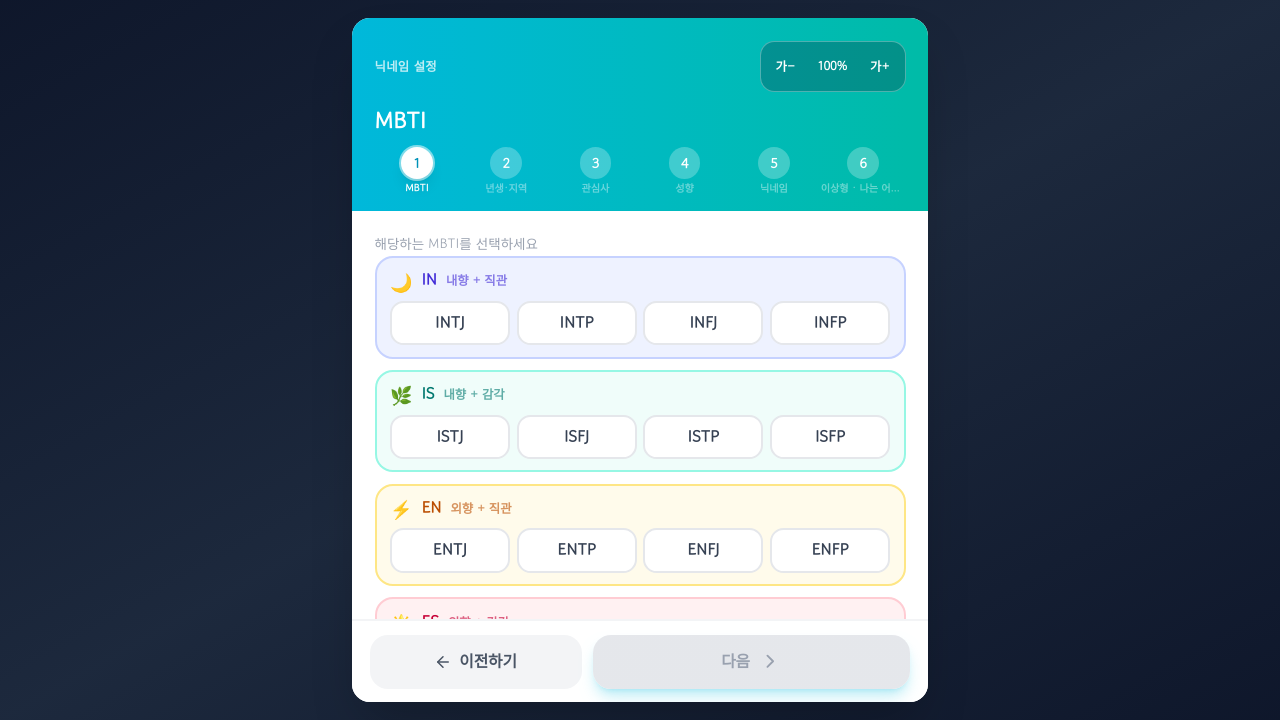
Scenario: NicknameSetupScreen — step 1 back › goes to the previous setup step instead of resetting after step 1
Click the button "INTJ" at (450, 323), box [390,301,510,346]
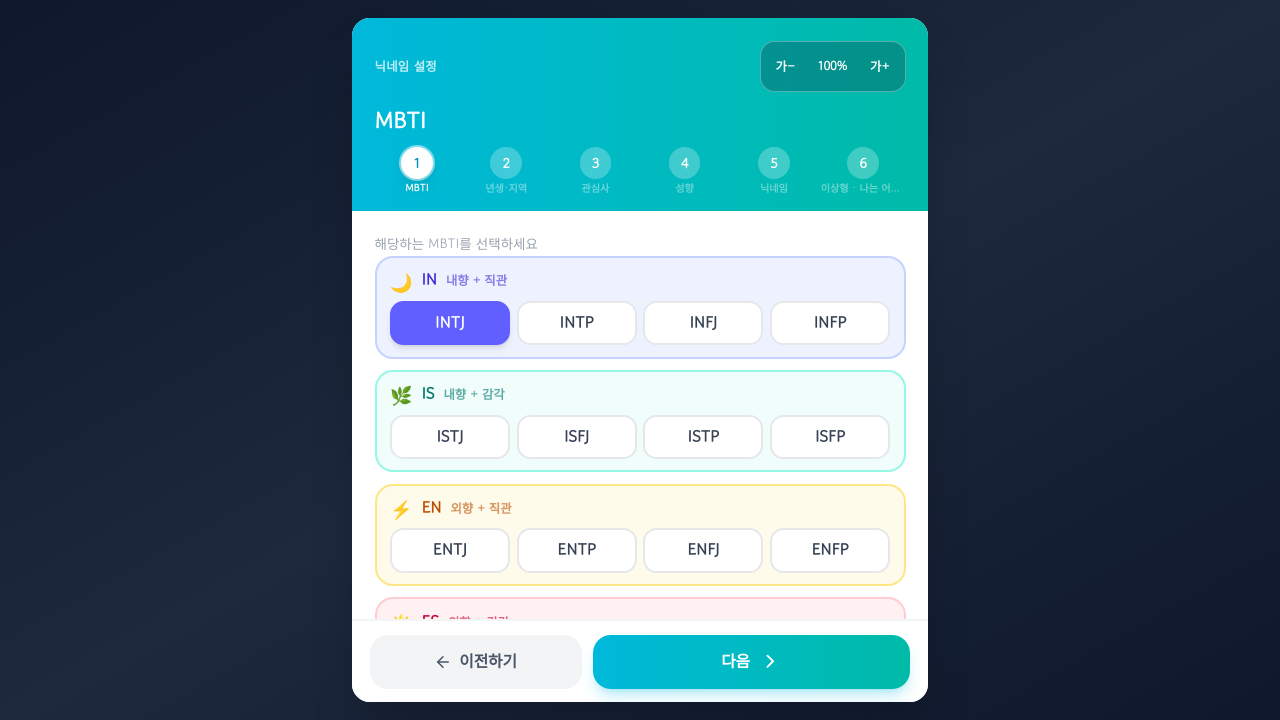
Click the button "다음" at (751, 662), box [593,634,910,688]
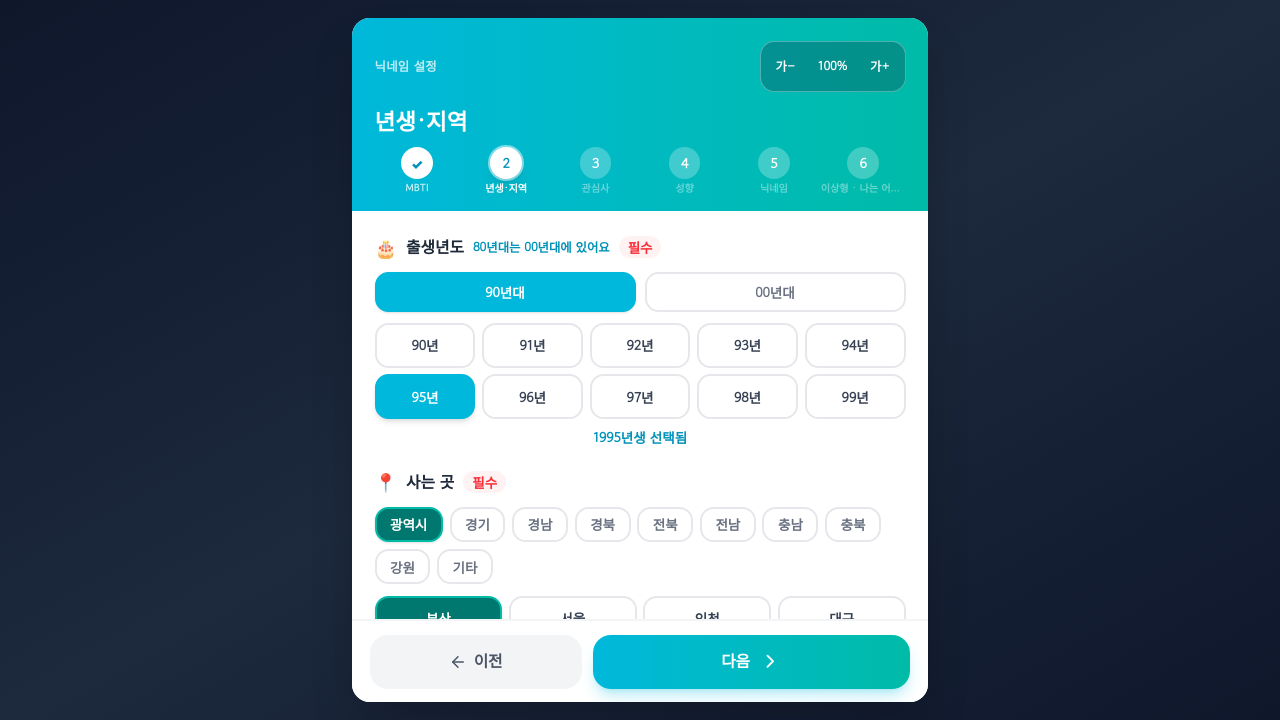
Expected: the text "출생년도" is shown, [406,236,464,258]
Click the button "이전" at (476, 662), box [370,634,582,688]
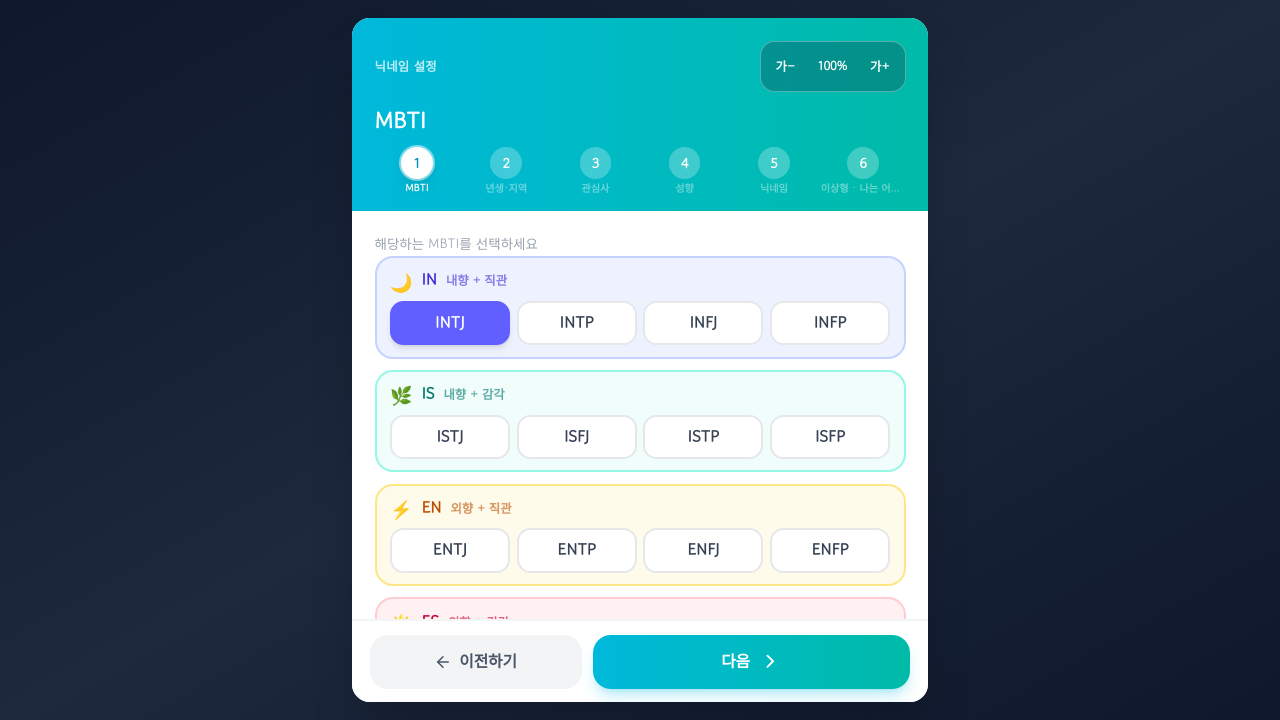
Expected: the button "이전하기" is shown, [370,634,582,688]
